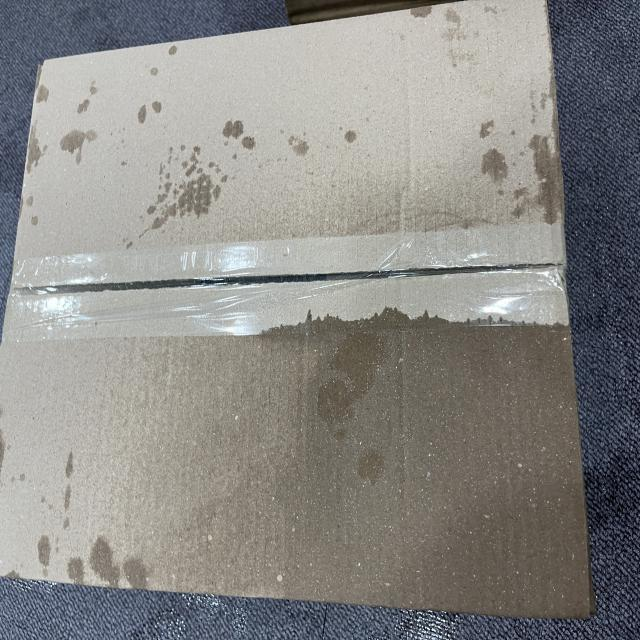wet: (215, 303, 577, 600)
